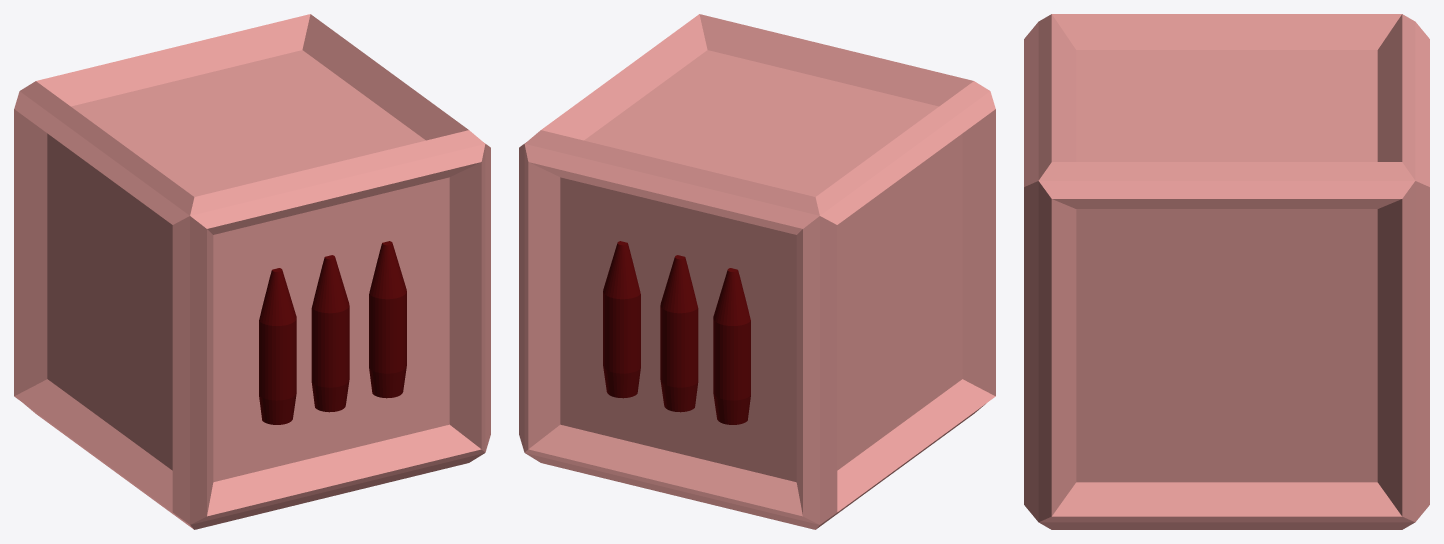
The model's file is RifleAmmo.fbx.
The picture shows the model from 3 angles, left to right: view 1: azimuth 30°, elevation 25°; view 2: azimuth 150°, elevation 25°; view 3: azimuth 270°, elevation 25°; orthographic projection. The views are drawn at different scales.
Parts seen in each view (by area): view 1: CaseOrigin.001, BulletOrigin.003; view 2: CaseOrigin.001, BulletOrigin.003; view 3: CaseOrigin.001.
Part boxes in pixels (x1,y1,x2,y2): CaseOrigin.001: (14, 14, 490, 529); BulletOrigin.003: (259, 241, 406, 424); CaseOrigin.001: (519, 14, 995, 529); BulletOrigin.003: (603, 241, 750, 424); CaseOrigin.001: (1024, 14, 1429, 529).
Bounding box in the file's own units: 200 × 200 × 200.
